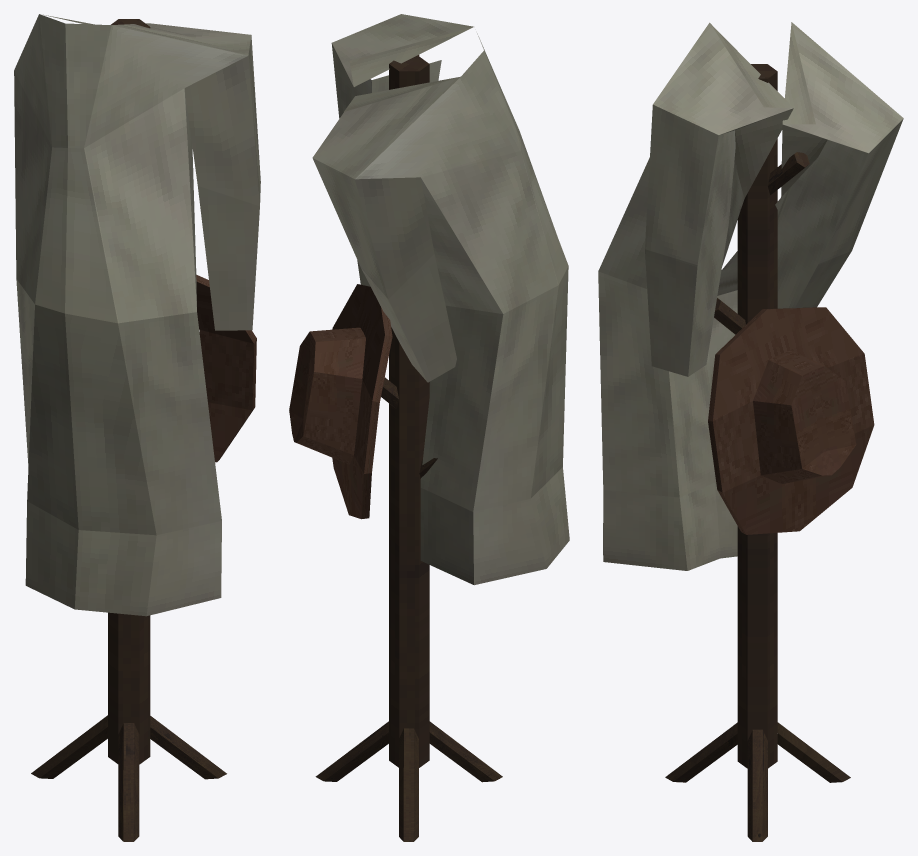
File: object_coatrack.glb
The picture shows the model from 3 angles, left to right: view 1: azimuth 30°, elevation 25°; view 2: azimuth 150°, elevation 25°; view 3: azimuth 270°, elevation 25°; orthographic projection. The views are drawn at different scales.
Visible parts, largest first — view 1: Coatrack; view 2: Coatrack; view 3: Coatrack.
Boxes of the visible parts, x1=… form: Coatrack: x1=14, y1=14, x2=260, y2=841; Coatrack: x1=289, y1=14, x2=569, y2=841; Coatrack: x1=598, y1=22, x2=903, y2=841.
Bounding box in the file's own units: 0.6345 × 2.08 × 0.7625.
Materials: 2 (2 with a texture image).
